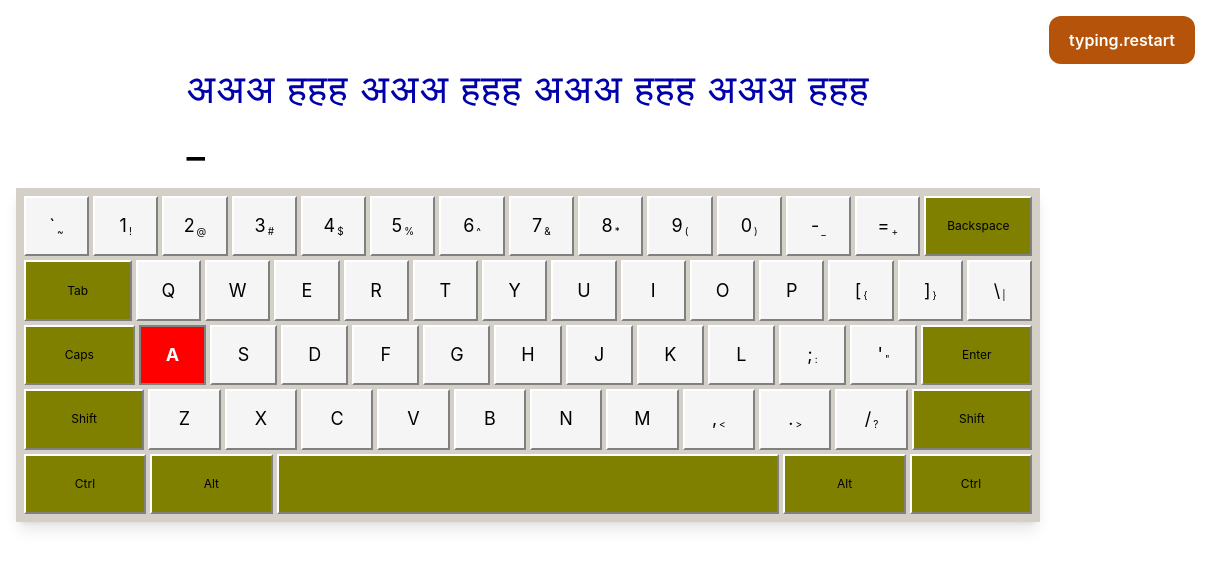
ClassicScreen tap input › guides a romanized drill by roman key and types it by tap (spec 0022 AC-3)
Click the button named "KeyA" at (172, 355), box [139,325,206,385]
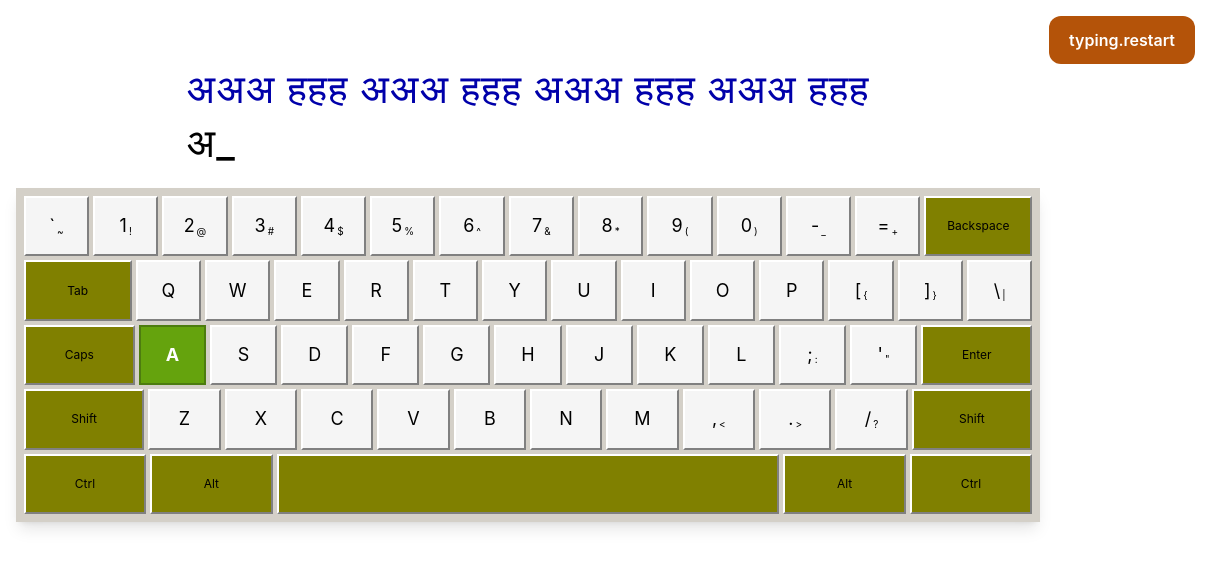
Click the button named "KeyA" at (172, 355), box [139,325,206,385]
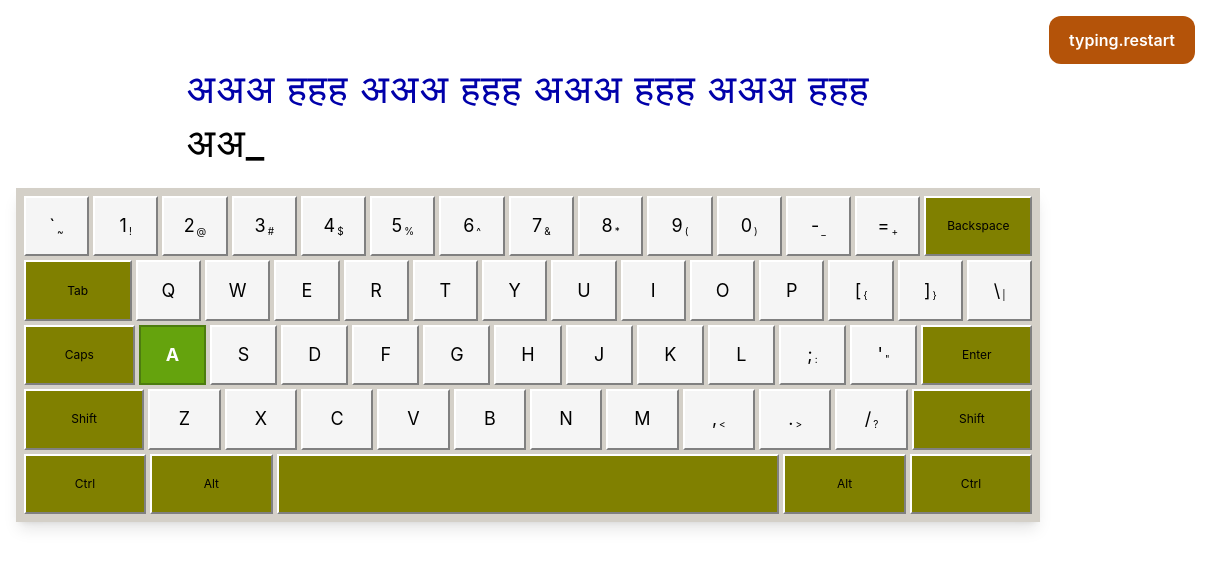
Click the button named "KeyA" at (172, 355), box [139,325,206,385]
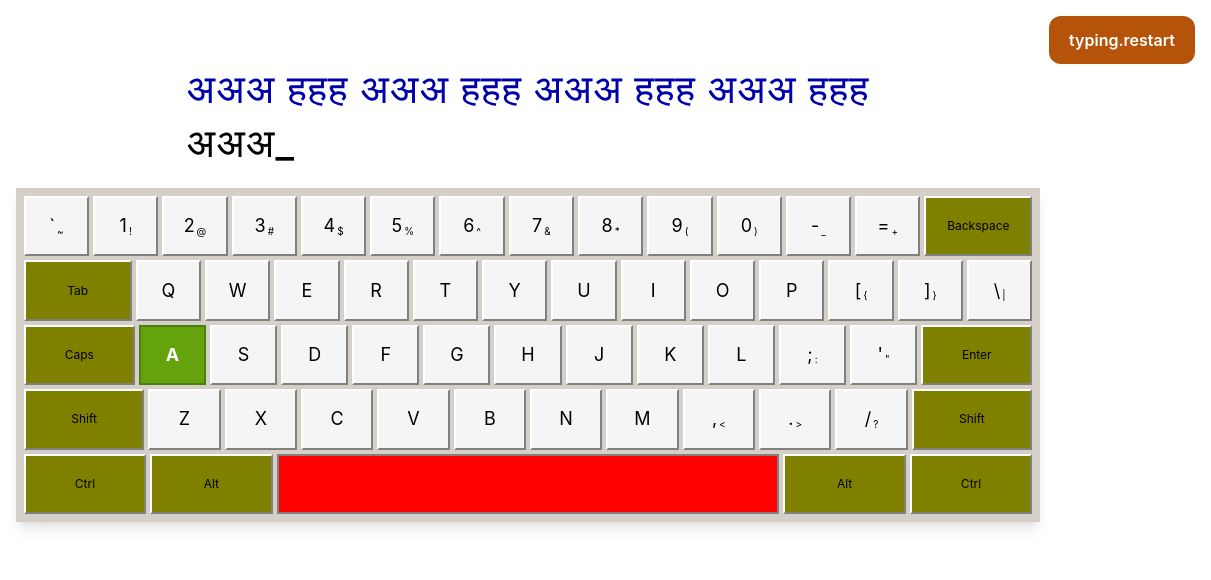
Expected: the element named "typed" shows "अअअ", [186,118,295,168]
Click the button named "Space" at (528, 484), box [277,454,779,514]
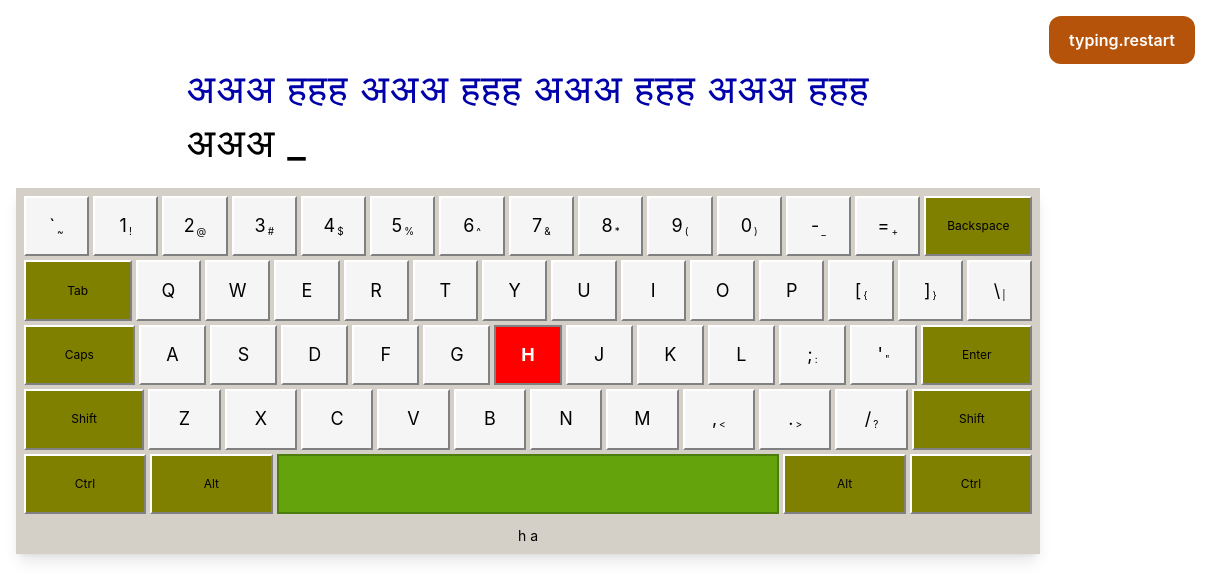
Click the button named "KeyH" at (528, 355), box [494,325,562,385]
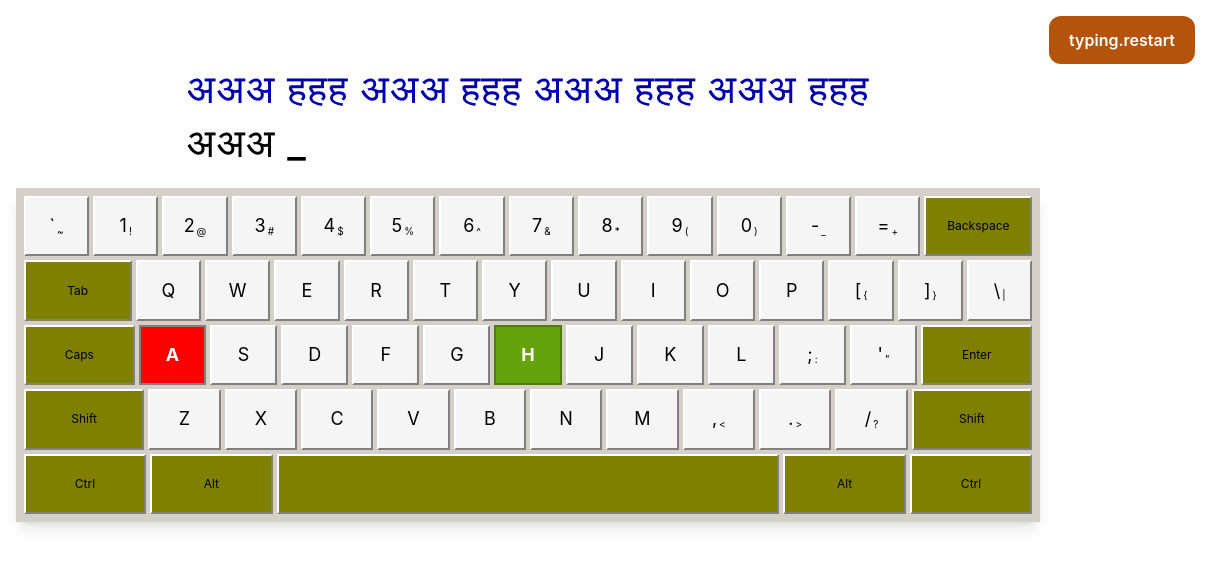
Click the button named "KeyA" at (172, 355), box [139,325,206,385]
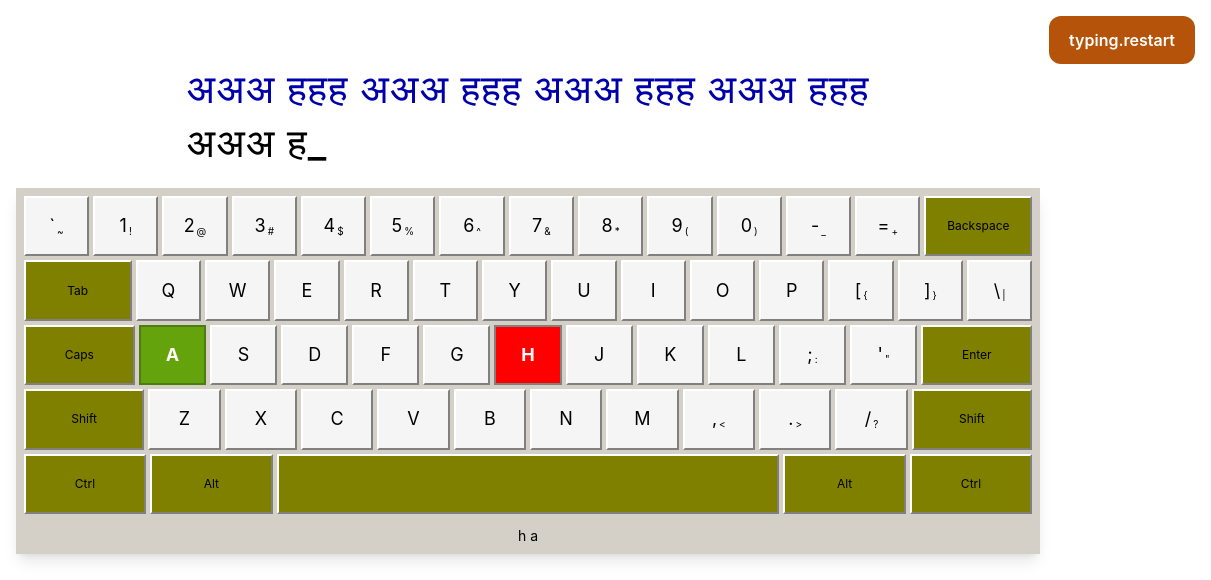
Expected: the element named "typed" shows "ह", [287,118,308,167]
